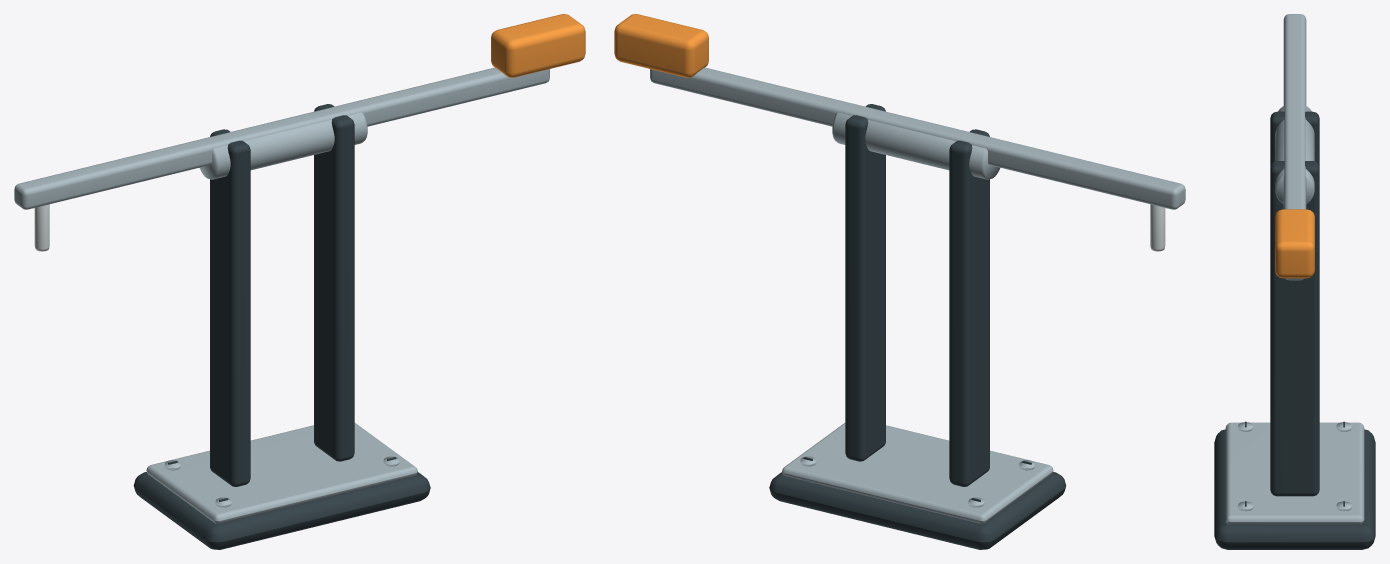
Rendered from lever.glb.
3 views of the same model, side by side, from view 1: azimuth 30°, elevation 25°; view 2: azimuth 150°, elevation 25°; view 3: azimuth 270°, elevation 25° (orthographic). The views are drawn at different scales.
Visible parts, largest first — view 1: Pivot bearing, Pivot bearing.001, Satin upper panel, leverArm, Machined plinth, latchBolt, Lever pivot, Probe; view 2: Pivot bearing, Pivot bearing.001, Satin upper panel, leverArm, Machined plinth, latchBolt, Lever pivot, Probe; view 3: Pivot bearing.001, Satin upper panel, Machined plinth, leverArm, latchBolt, Lever pivot, Pivot bearing.
Boxes of the visible parts, x1,y1,x2,y2 form: Pivot bearing: (210, 129, 250, 486); Pivot bearing.001: (314, 104, 354, 461); Satin upper panel: (146, 423, 417, 523); leverArm: (14, 67, 549, 209); Machined plinth: (133, 472, 430, 549); latchBolt: (491, 14, 585, 77); Lever pivot: (199, 112, 367, 179); Probe: (34, 204, 49, 251); Pivot bearing: (949, 129, 989, 486); Pivot bearing.001: (845, 104, 885, 461); Satin upper panel: (782, 423, 1053, 523); leverArm: (650, 67, 1185, 209); Machined plinth: (769, 472, 1066, 549); latchBolt: (614, 14, 708, 77); Lever pivot: (832, 112, 1000, 179); Probe: (1150, 204, 1165, 251); Pivot bearing.001: (1270, 161, 1319, 496); Satin upper panel: (1225, 422, 1364, 524); Machined plinth: (1214, 429, 1375, 549); leverArm: (1283, 14, 1306, 280); latchBolt: (1275, 209, 1314, 278); Lever pivot: (1275, 106, 1314, 204); Pivot bearing: (1270, 111, 1319, 166).
Size of the model in its own units: 0.7 by 0.4915 by 0.18.
